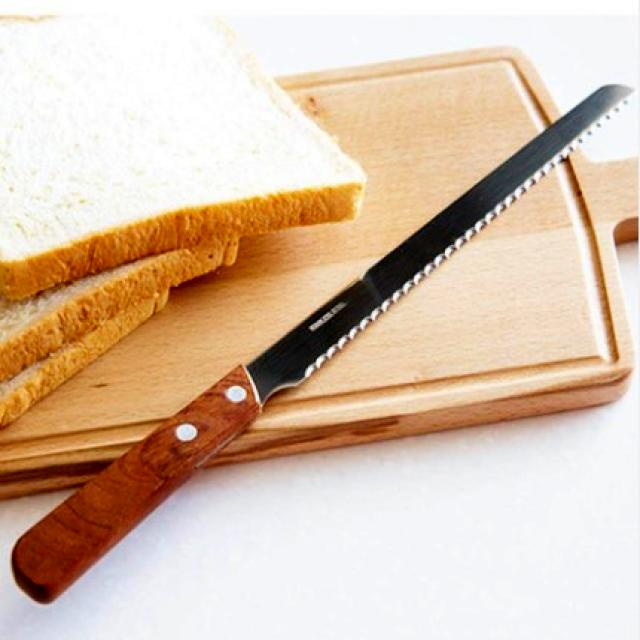knife: (6, 75, 640, 616)
